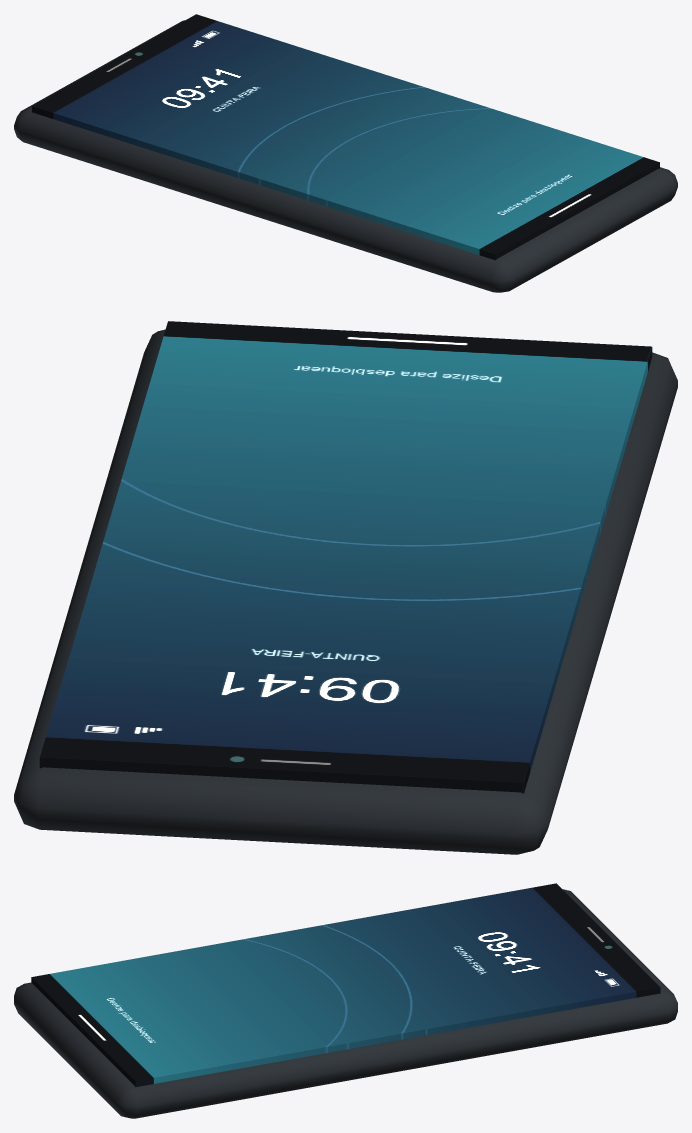
The model's file is celular_realista.glb.
3 renders of one model, top to bottom at view 1: azimuth 30°, elevation 25°; view 2: azimuth 150°, elevation 25°; view 3: azimuth 270°, elevation 25°, orthographic. The views are drawn at different scales.
Parts seen in each view (by area): view 1: I_Celular_Print_Tela.001, I_Celular_Print_Corpo.001; view 2: I_Celular_Print_Tela.001, I_Celular_Print_Corpo.001; view 3: I_Celular_Print_Tela.001, I_Celular_Print_Corpo.001.
Part boxes in pixels (box(x1,y1,x2,y2)): I_Celular_Print_Tela.001: box(32, 14, 659, 260); I_Celular_Print_Corpo.001: box(14, 20, 677, 292); I_Celular_Print_Tela.001: box(39, 321, 652, 793); I_Celular_Print_Corpo.001: box(14, 329, 677, 854); I_Celular_Print_Tela.001: box(31, 883, 660, 1087); I_Celular_Print_Corpo.001: box(14, 889, 677, 1118).
Size of the model in its own units: 0.1264 by 0.0105 by 0.1689.
Materials: 2 (1 with a texture image).
